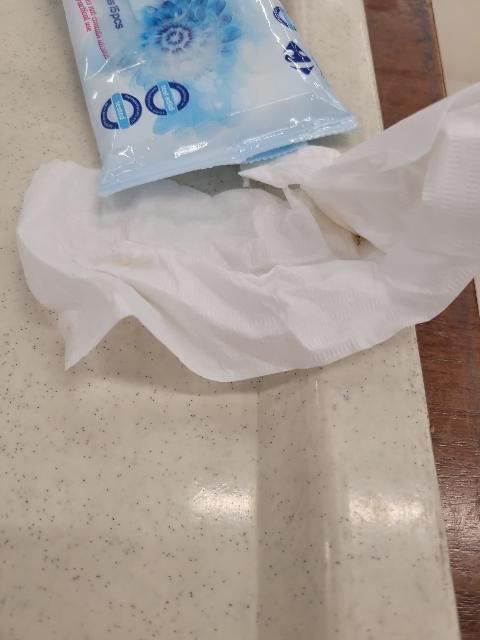Kagit: (27, 102, 480, 379)
Plastik: (63, 0, 359, 202)
